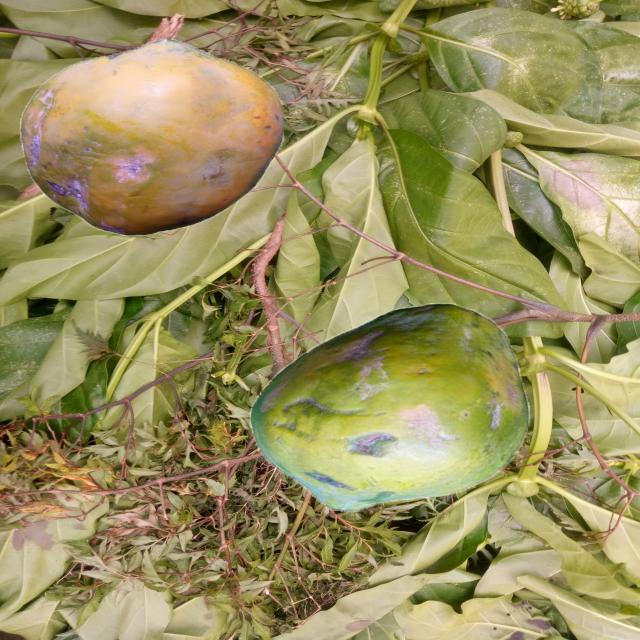Pepaya rippen: (259, 305, 532, 512), (14, 31, 282, 241)
